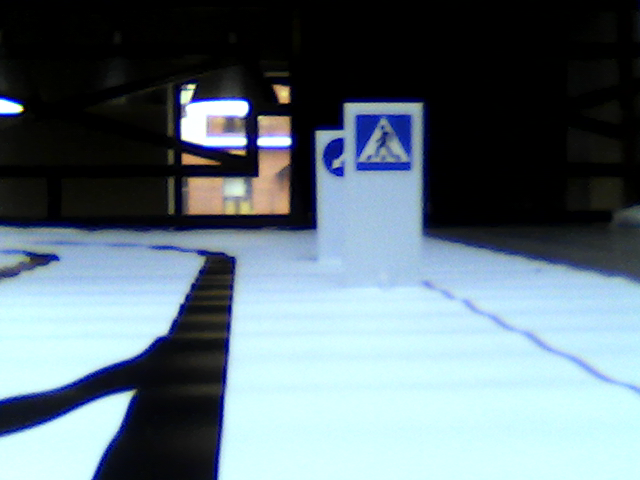pesh: (356, 114, 411, 168)
